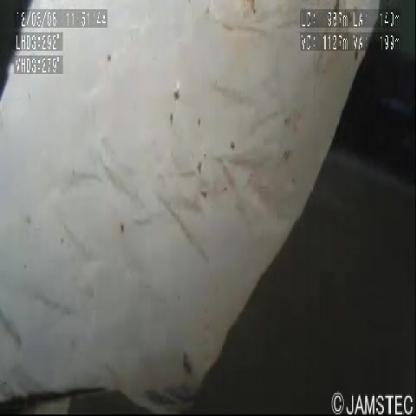Rov: (344, 1, 416, 128), (1, 371, 201, 416)
Rác: (2, 1, 387, 413)
